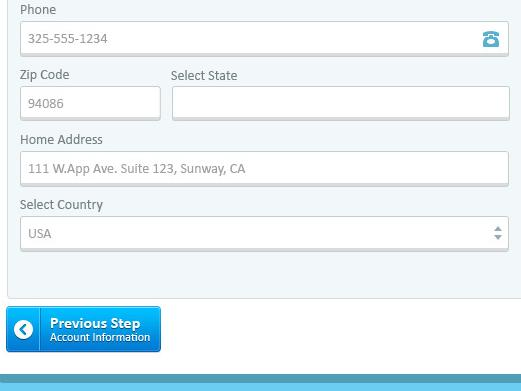button: (4, 305, 161, 354)
field: (16, 149, 511, 189), (16, 18, 511, 57), (19, 215, 510, 254), (167, 84, 513, 122), (17, 83, 161, 121)
field_with_label: (14, 134, 514, 191), (14, 4, 514, 60), (15, 199, 513, 255), (167, 70, 515, 124), (15, 69, 162, 123)
